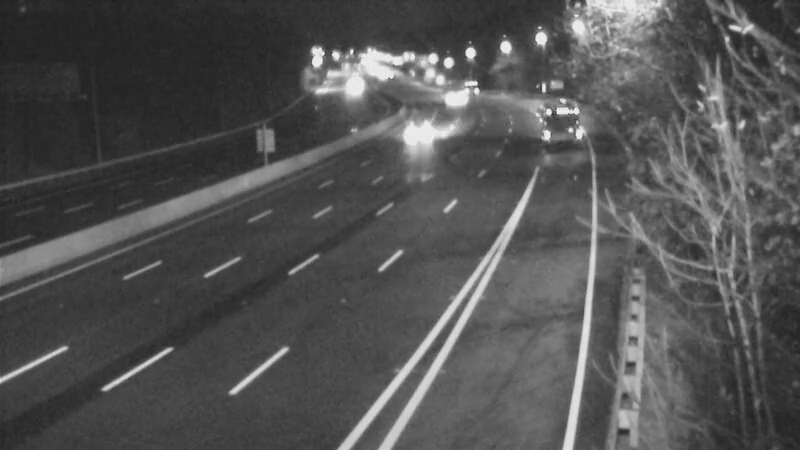vehicle: (445, 62, 495, 112), (426, 64, 476, 114), (526, 93, 576, 143), (394, 108, 444, 158), (326, 57, 376, 107)
